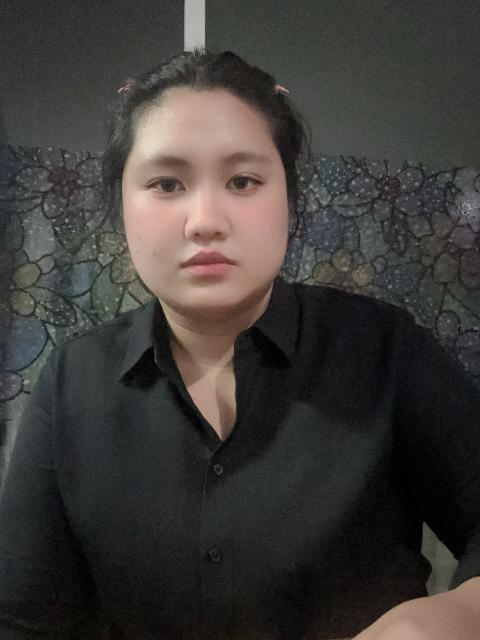fokus: (116, 69, 292, 310)
